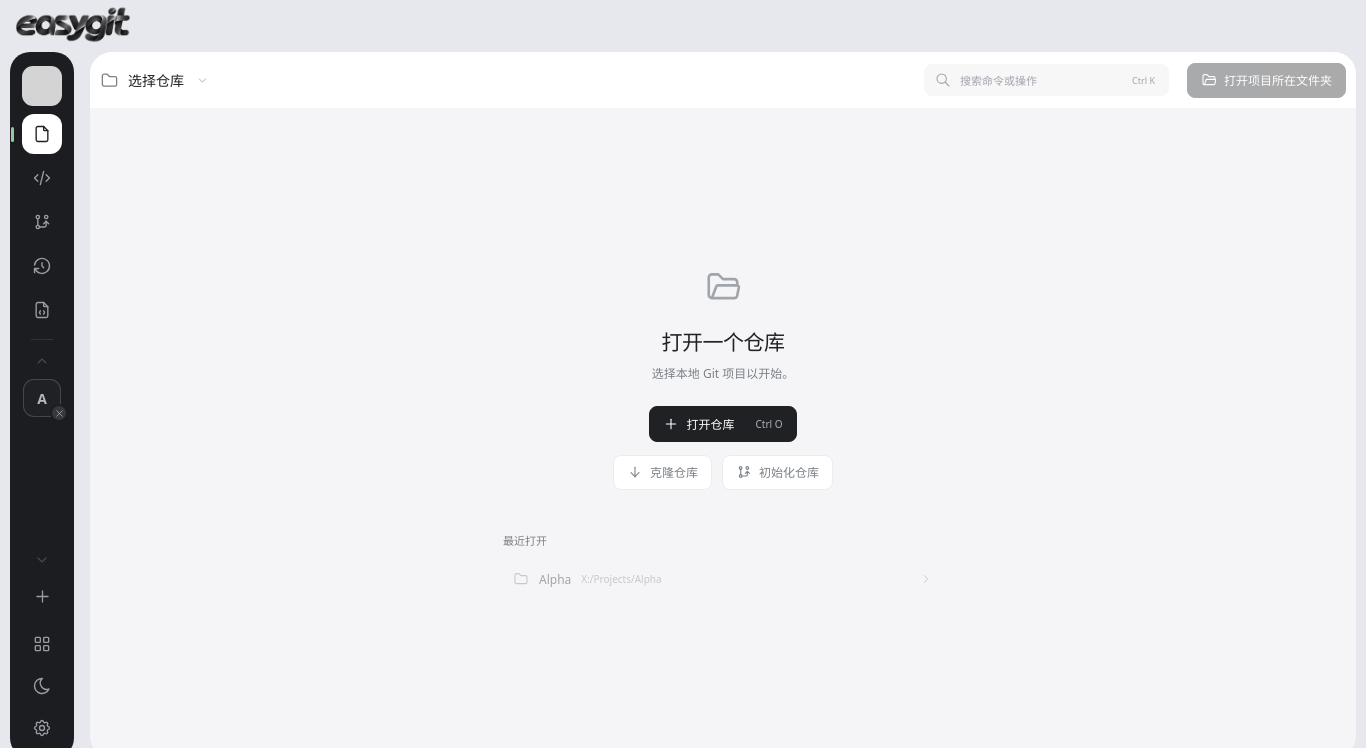
只撤回所选变更块 › 取消区块撤回不执行写操作，过期区块失败后保留确认框
The image size is (1366, 748).
What coordinates should you click on to do the following:
click the button "A"
I would click on:
 (42, 398)
Its box is x1=23 y1=379 x2=61 y2=417.
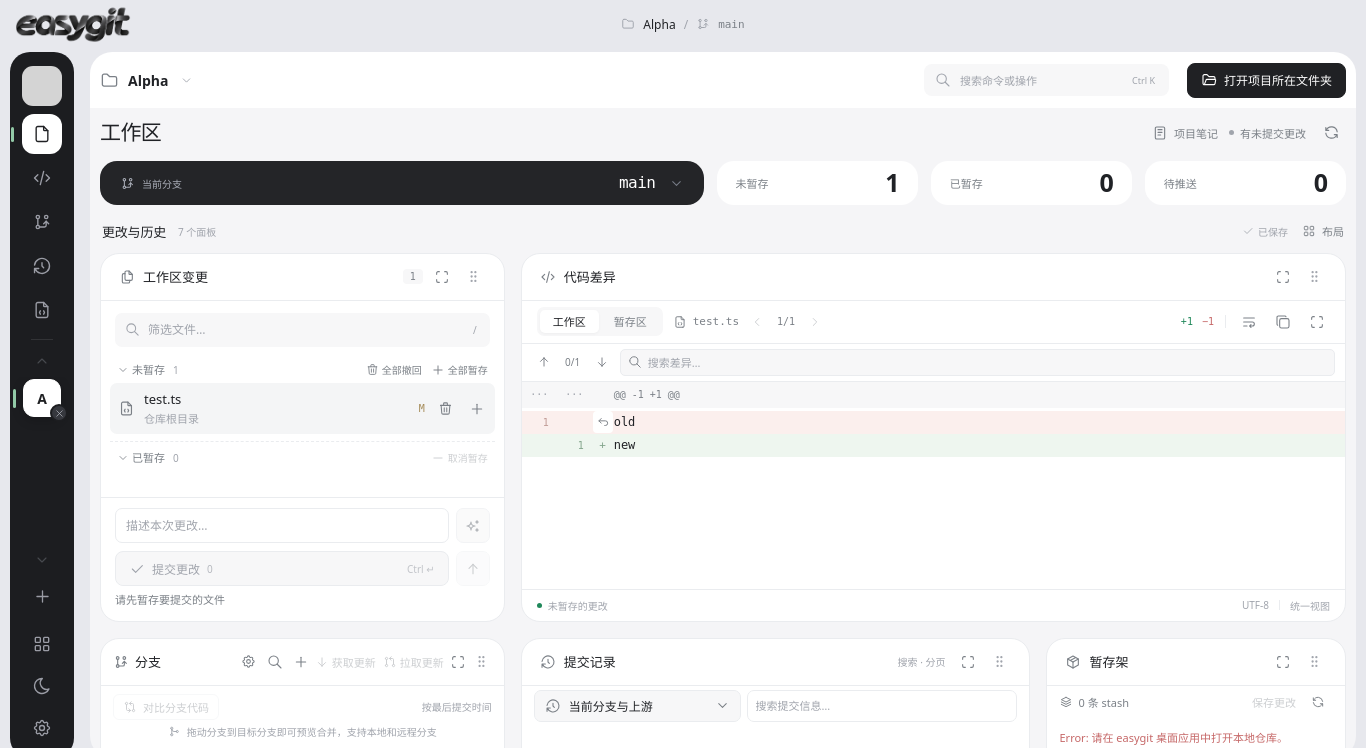
What coordinates should you click on to do the following:
click the button named "撤回变更块 1"
I would click on:
 (603, 422)
Its box is x1=593 y1=411 x2=613 y2=433.
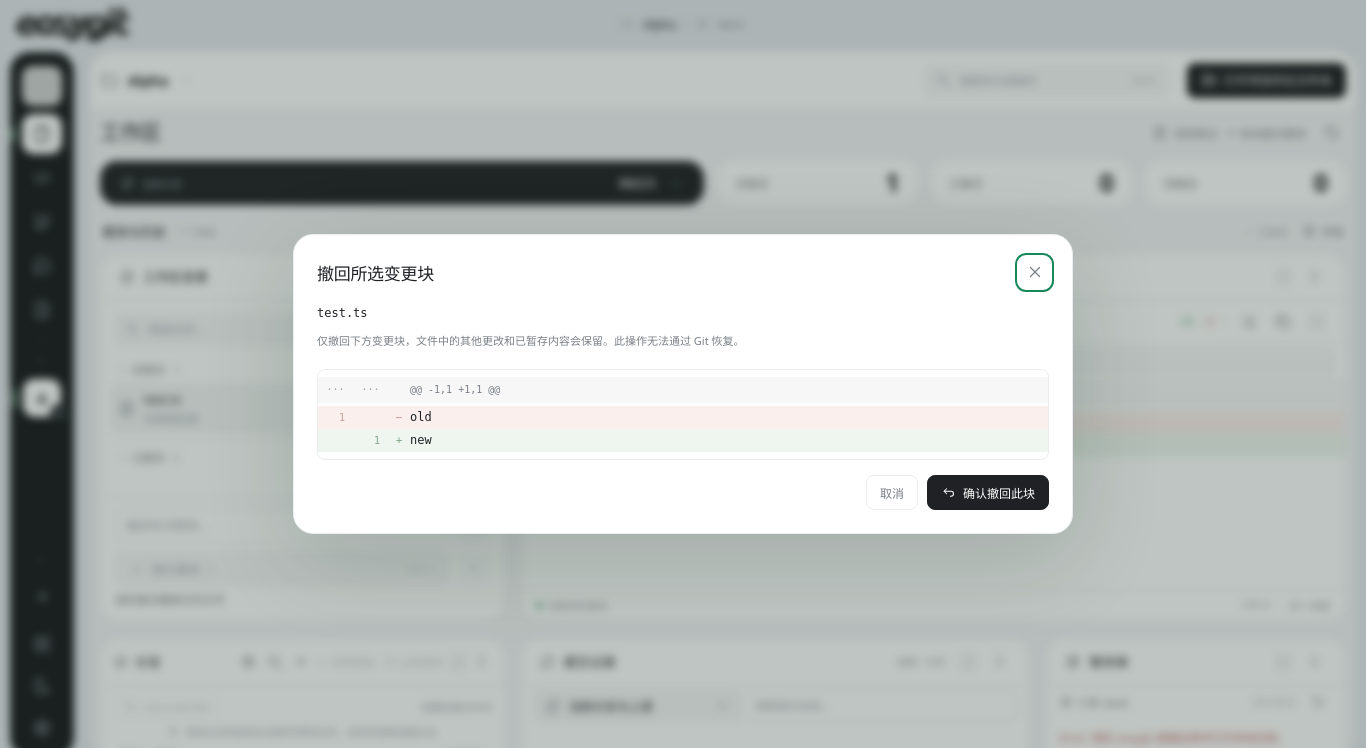
What coordinates should you click on to do the following:
click the button "取消"
I would click on:
 (892, 493)
Its box is x1=866 y1=475 x2=918 y2=510.
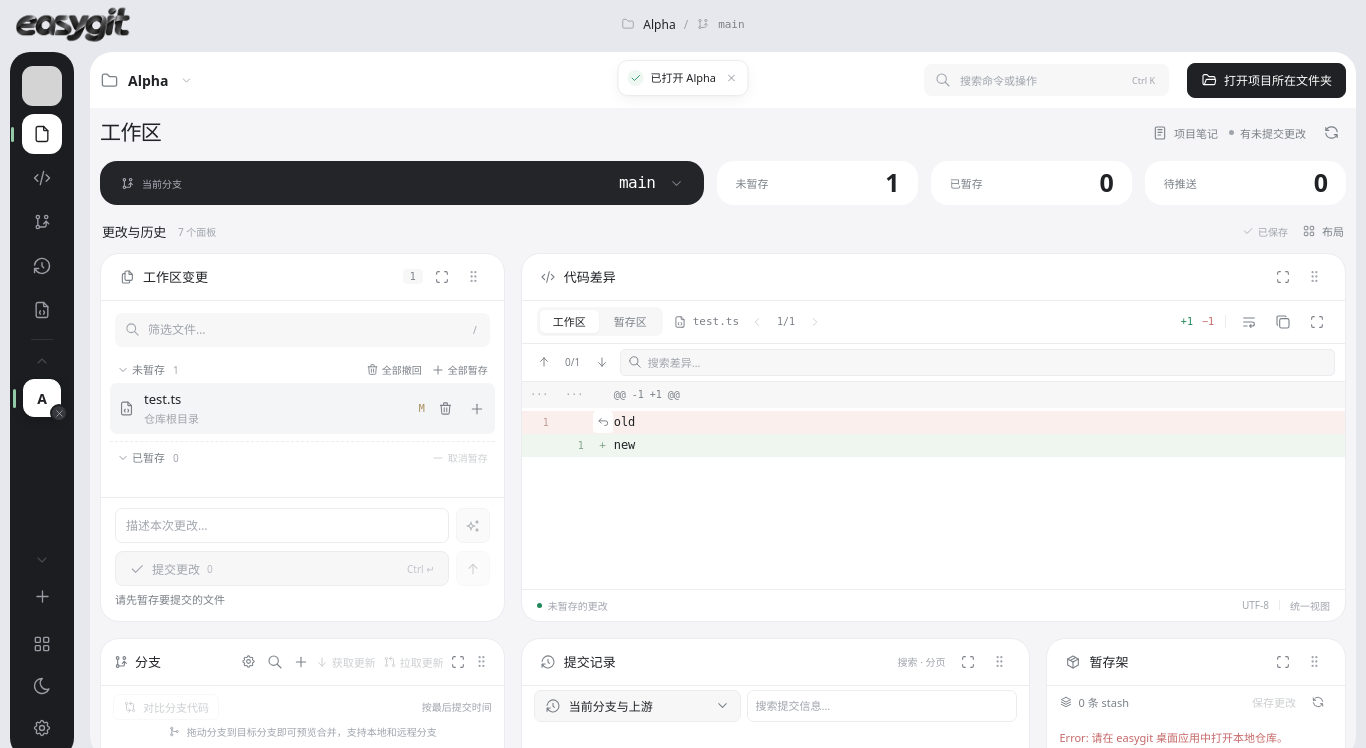
What coordinates should you click on to do the following:
click the button named "撤回变更块 1"
I would click on:
 (603, 422)
Its box is x1=593 y1=411 x2=613 y2=433.
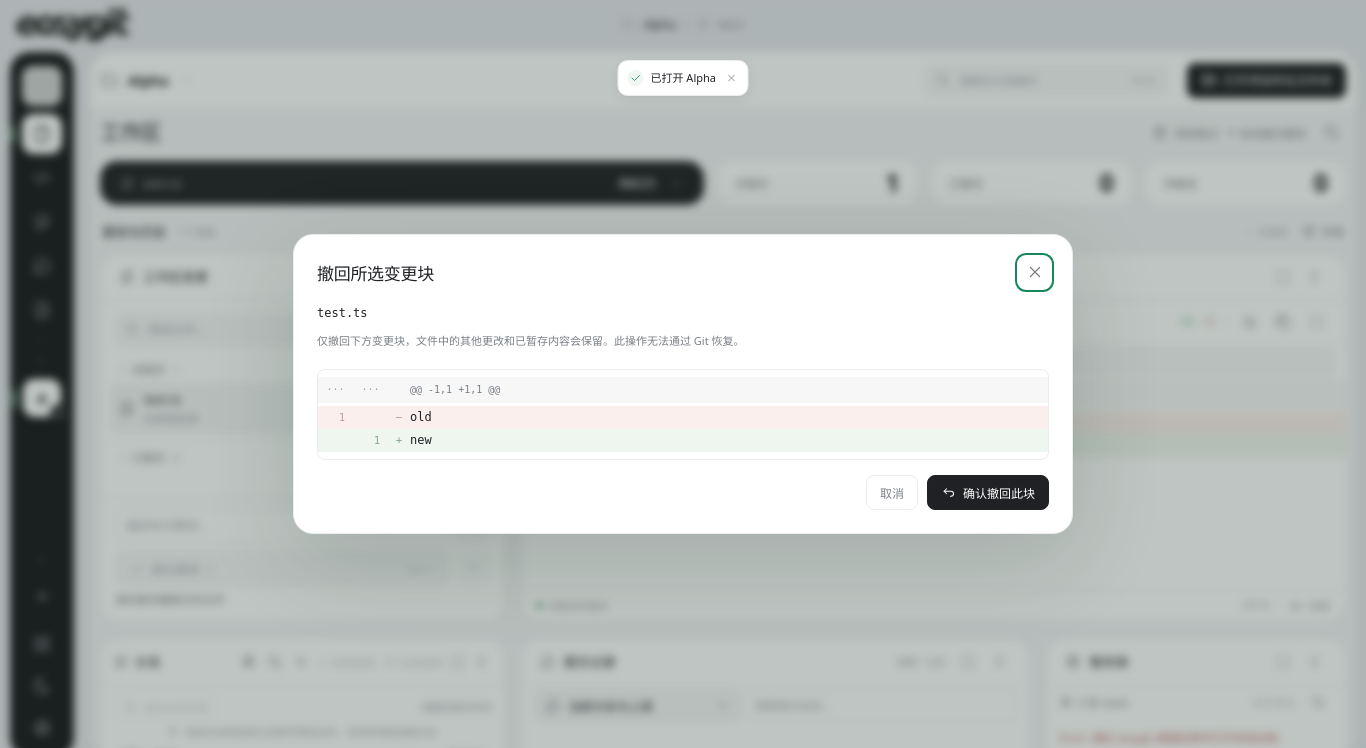
What coordinates should you click on to do the following:
click the button "确认撤回此块"
I would click on:
 (988, 493)
Its box is x1=927 y1=475 x2=1049 y2=510.
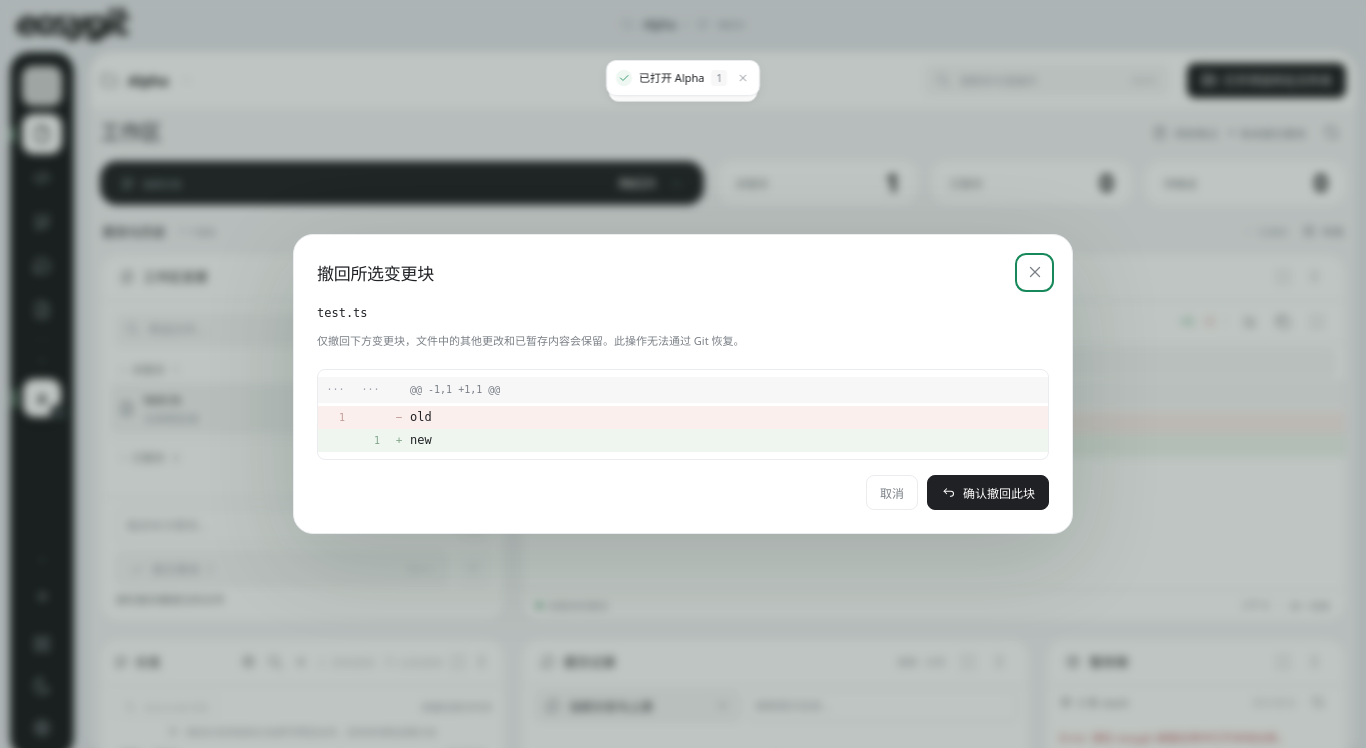
Now the dialog named "撤回所选变更块" is shown, box x1=293 y1=234 x2=1073 y2=534
Now the text "所选变更块已变化" is shown, box x1=640 y1=79 x2=756 y2=93
